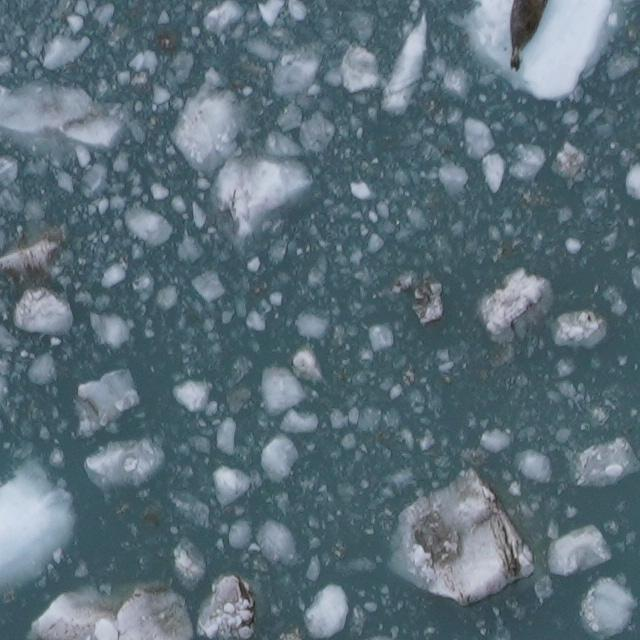seal: (504, 0, 552, 74)
